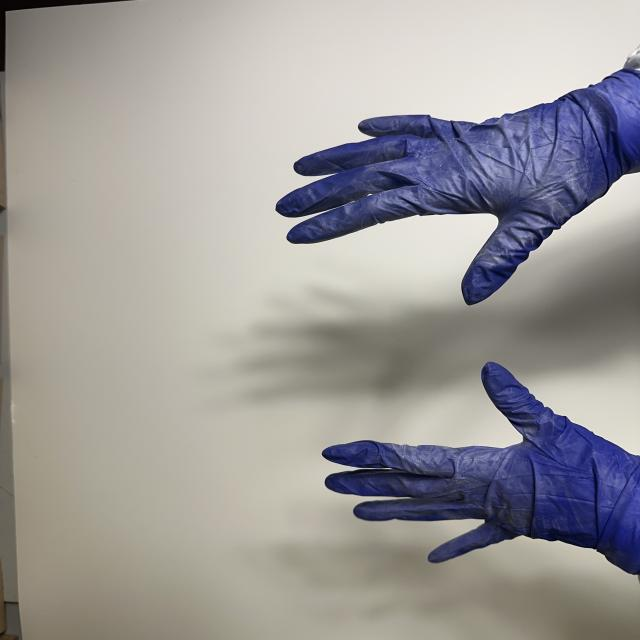gloves_contaminated: (276, 58, 640, 305), (323, 363, 640, 573)
